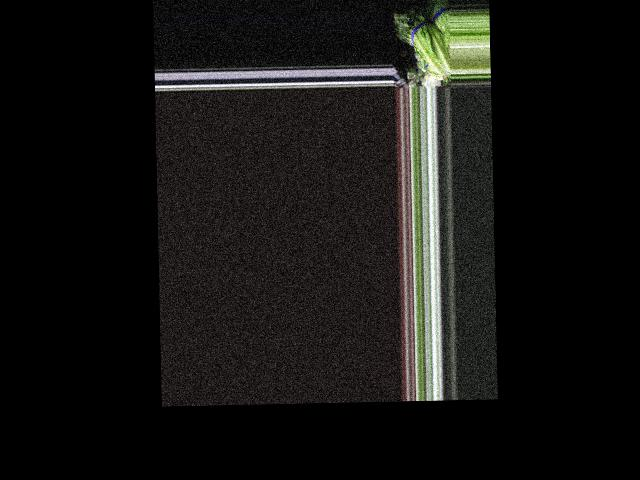lettuce: (397, 7, 451, 73)
